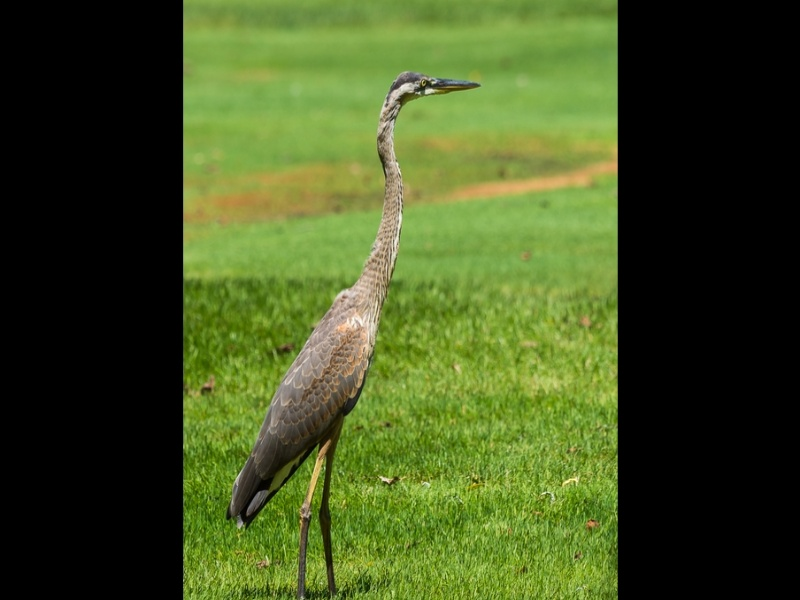heron: (222, 68, 481, 578)
